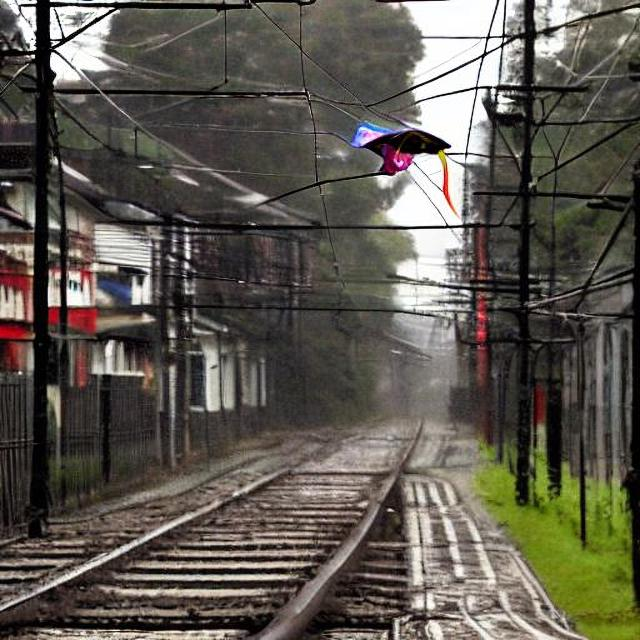floating object: (347, 117, 459, 221)
